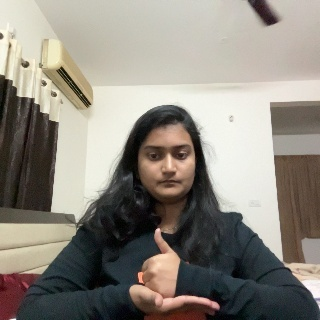Face: (137, 118, 195, 208)
Help: (120, 230, 216, 312)
